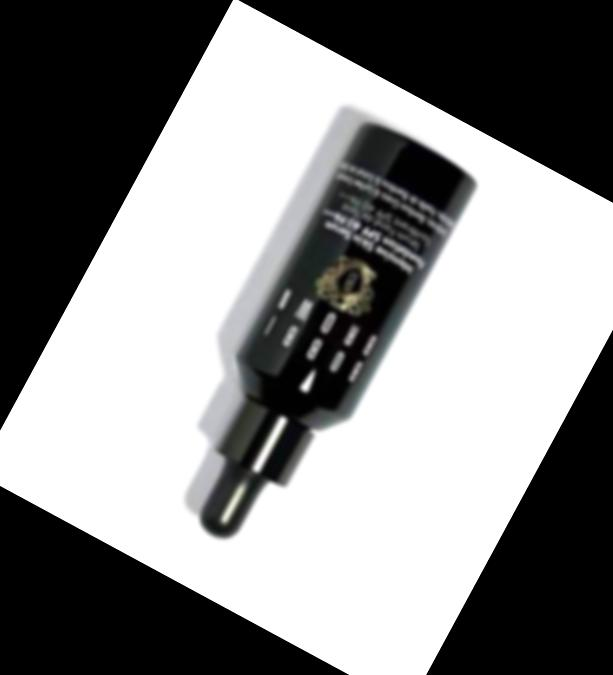cosmetic: (155, 123, 481, 569)
